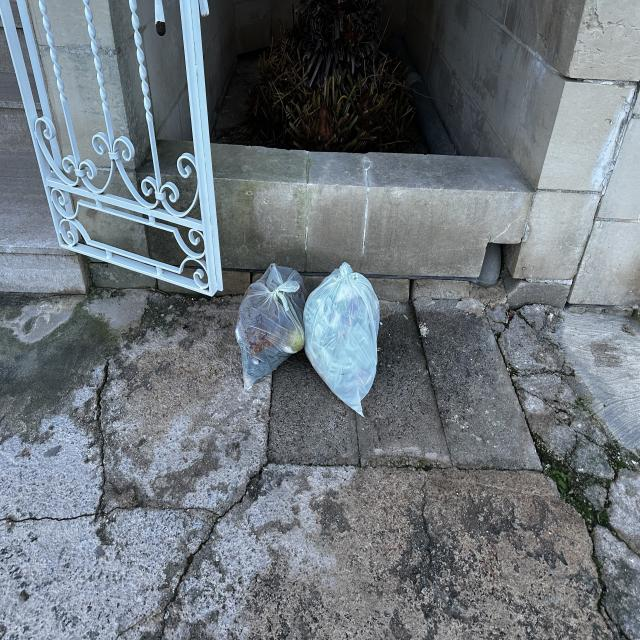Organic Waste -White Bags-: (235, 261, 380, 417)
